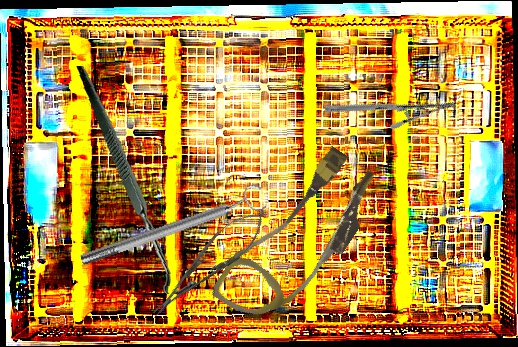Cannula: (209, 133, 389, 343)
Fixation Ring: (76, 181, 269, 274)
Hook Surgical: (57, 65, 216, 297)
Needle Holder: (141, 197, 277, 328), (322, 47, 458, 167)
